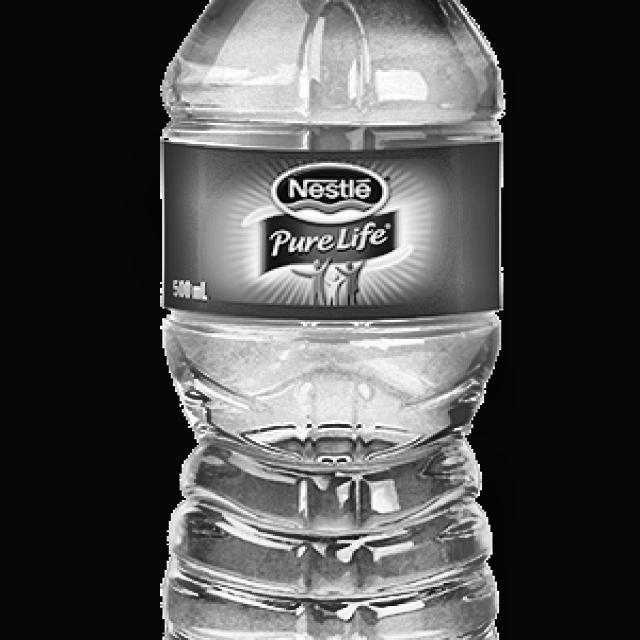bottle: (147, 0, 510, 640)
